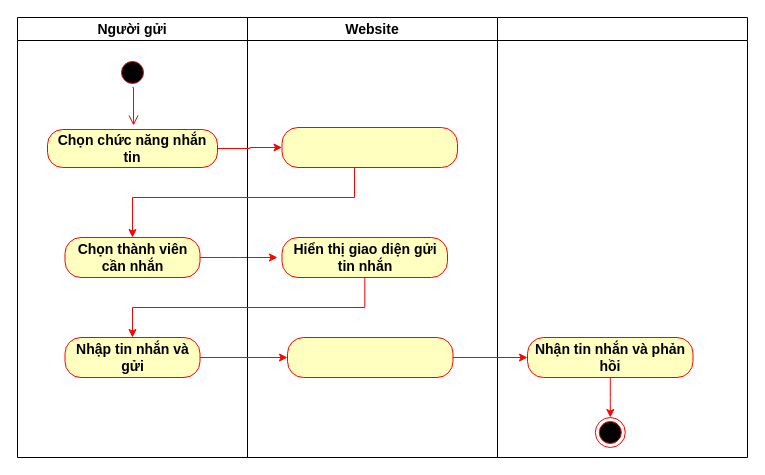
The diagram is 765 pixels wide and 475 high, and some of its shapes have lost their labels. Here are the shapes that lost their labels. From the top down, the box of each, then its label:
(281, 126, 458, 168): Hiển thị giao diện danh sách thành viên lớp học
(496, 16, 748, 458): Người nhận
(286, 336, 453, 378): Lưu dữ liệu và gửi tin nhắn đến người nhận
